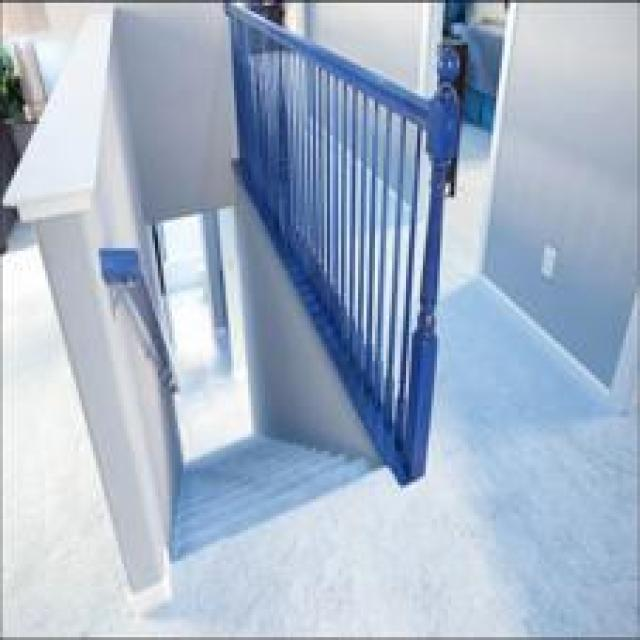downstair: (150, 365, 393, 568)
